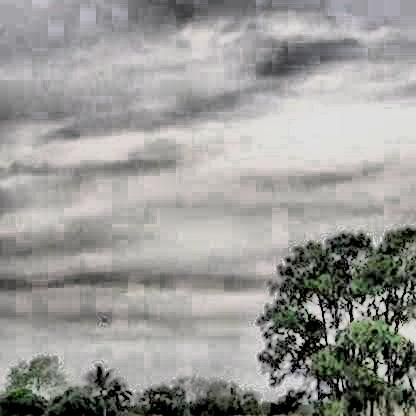golfball: (98, 314, 103, 321)
